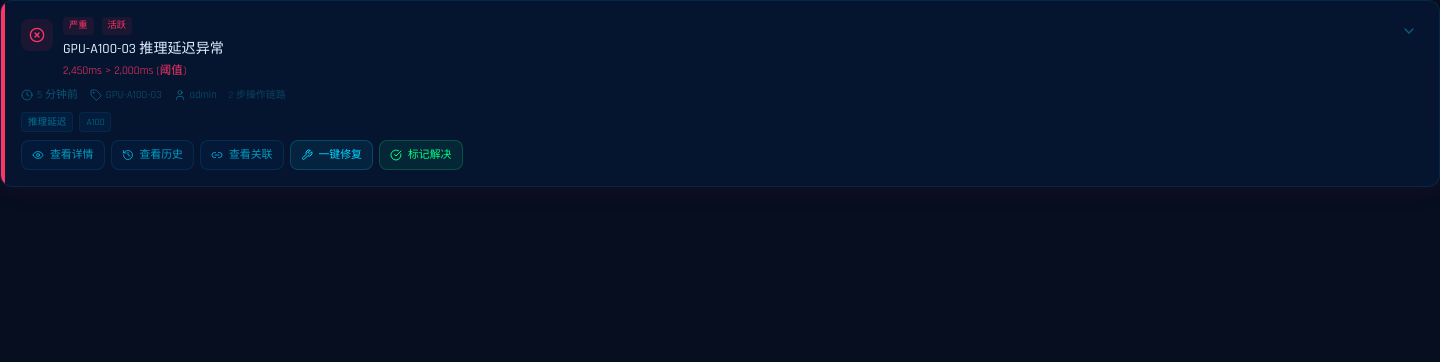
FollowUpCard › 展开/折叠 › 点击展开按钮后应显示操作链路
Click the 1st button: (1409, 31) [1395,17,1423,45]
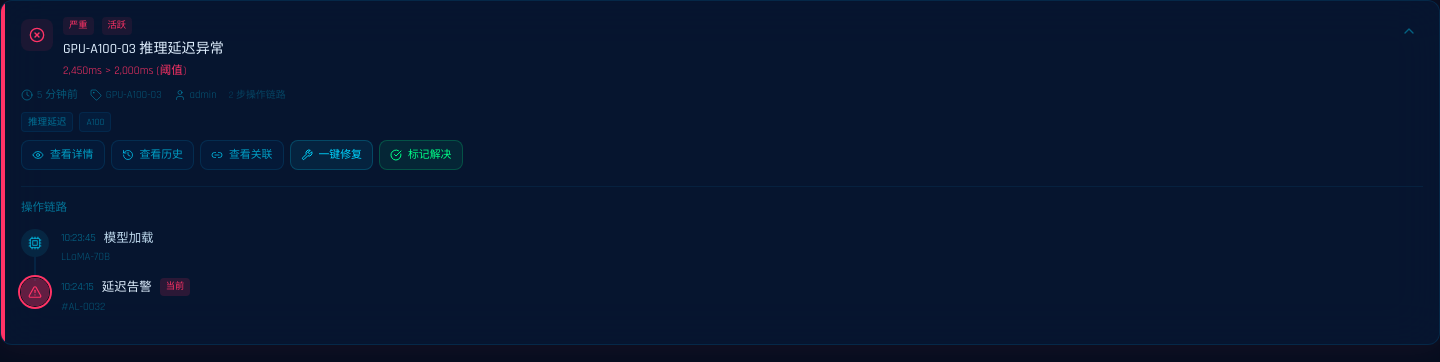
Expected: the heading "操作链路" is shown, [21,200,67,215]
